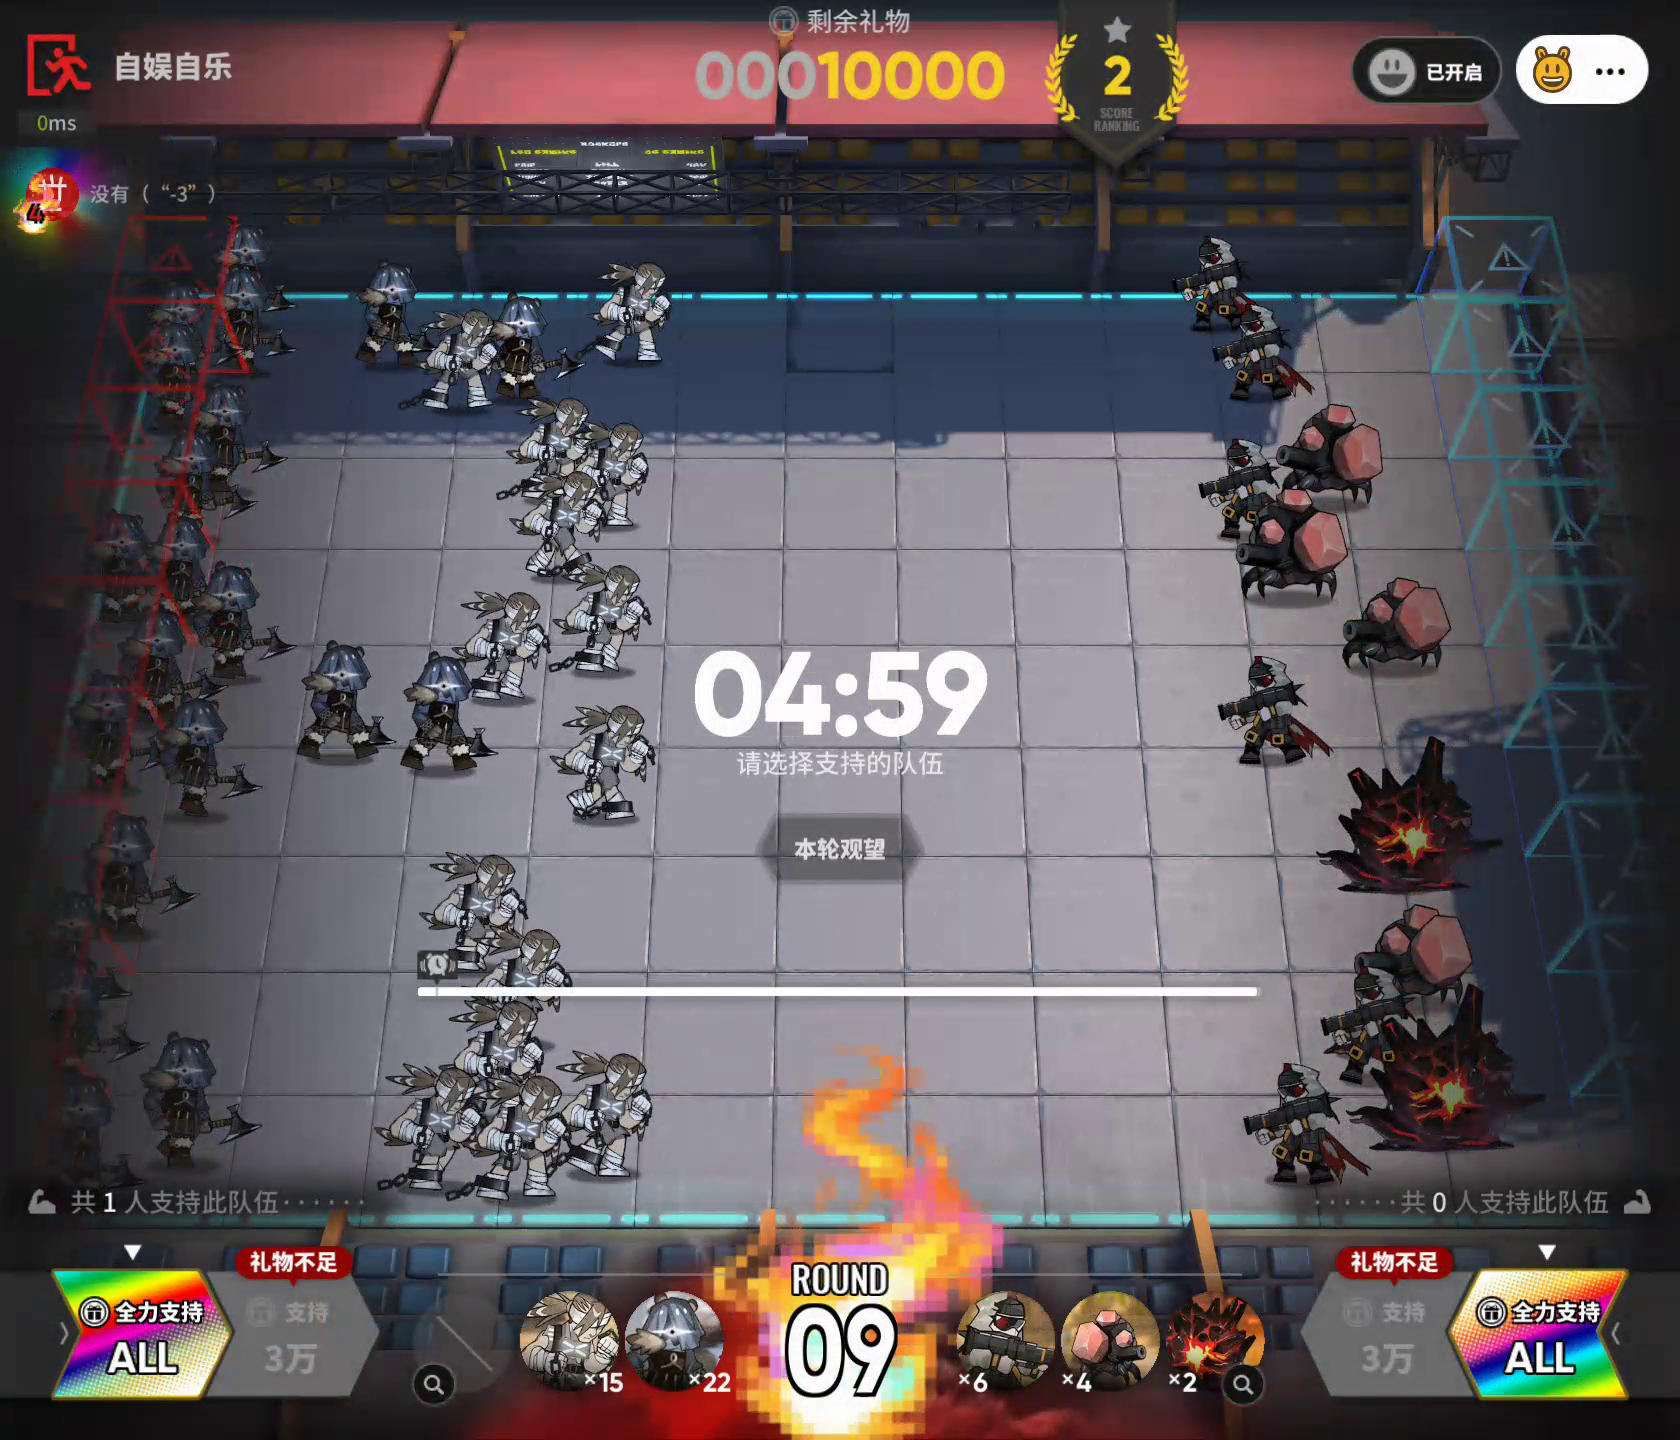“庞贝”: (1297, 724, 1531, 909), (1344, 986, 1566, 1159), (1167, 1283, 1273, 1401)
大喷蛛: (1354, 899, 1477, 1014), (1231, 479, 1347, 600), (1336, 570, 1459, 677), (1060, 1286, 1166, 1401), (1273, 399, 1389, 501)
奔跑吧！躯壳！: (137, 1021, 266, 1167), (79, 807, 199, 941), (57, 663, 169, 806), (40, 1066, 151, 1196), (189, 554, 294, 689), (391, 649, 503, 776), (151, 691, 260, 821), (284, 641, 393, 769), (119, 591, 226, 720), (623, 1281, 737, 1399), (26, 879, 137, 999), (43, 961, 149, 1080), (487, 289, 587, 406), (126, 316, 223, 434), (149, 421, 257, 526), (354, 249, 439, 381), (200, 269, 301, 374), (81, 507, 174, 621), (189, 371, 290, 474), (146, 511, 231, 621), (213, 211, 301, 317), (143, 279, 217, 361)
榴弹佣兵: (1233, 1059, 1377, 1191), (1314, 953, 1450, 1083), (1211, 649, 1334, 774), (957, 1286, 1059, 1401), (1193, 439, 1300, 541), (1214, 294, 1321, 394), (1176, 226, 1264, 334)
锁链拳手: (371, 1051, 489, 1207), (406, 843, 530, 979), (544, 1044, 659, 1189), (544, 553, 657, 686), (547, 699, 659, 829), (471, 1074, 574, 1207), (501, 469, 607, 594), (513, 1286, 624, 1399), (580, 256, 681, 374), (564, 416, 663, 534), (443, 994, 553, 1099), (407, 304, 501, 420), (484, 911, 573, 1031), (463, 587, 551, 701), (509, 387, 591, 506)
